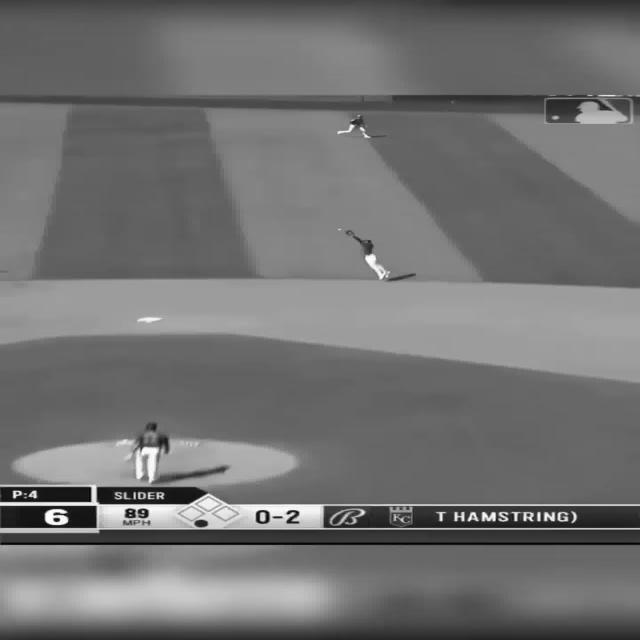baseball: (338, 228, 342, 230)
baseball_glove: (347, 231, 350, 234)
shoe: (378, 270, 391, 280)
